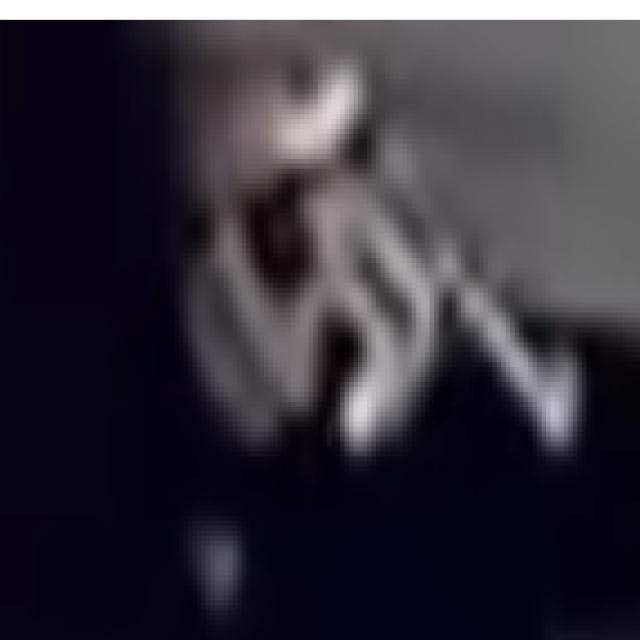Revolver: (174, 35, 596, 498)
